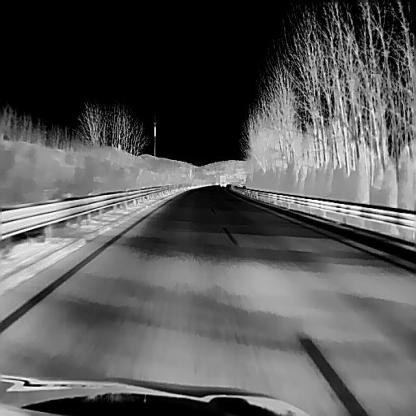truck: (219, 174, 226, 186)
